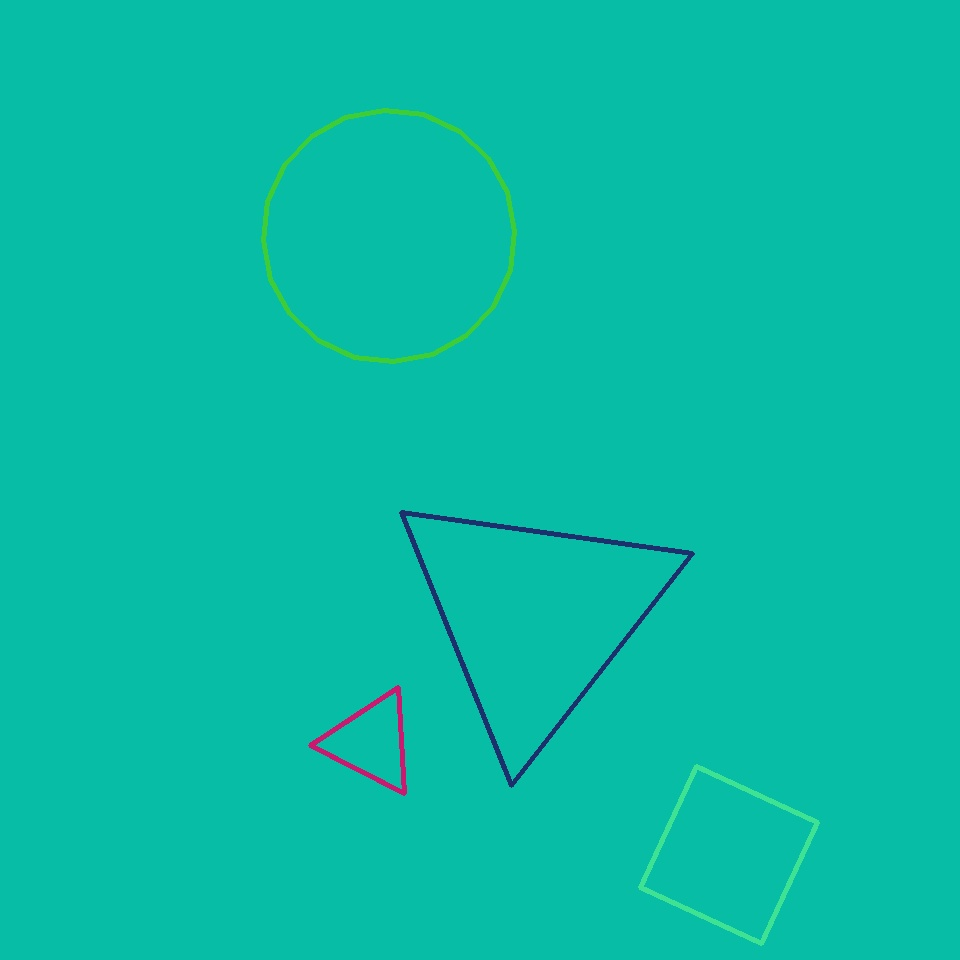circle: (390, 480, 680, 754), (324, 689, 418, 795)
square: (640, 766, 818, 944)
triangle: (264, 110, 514, 362)
